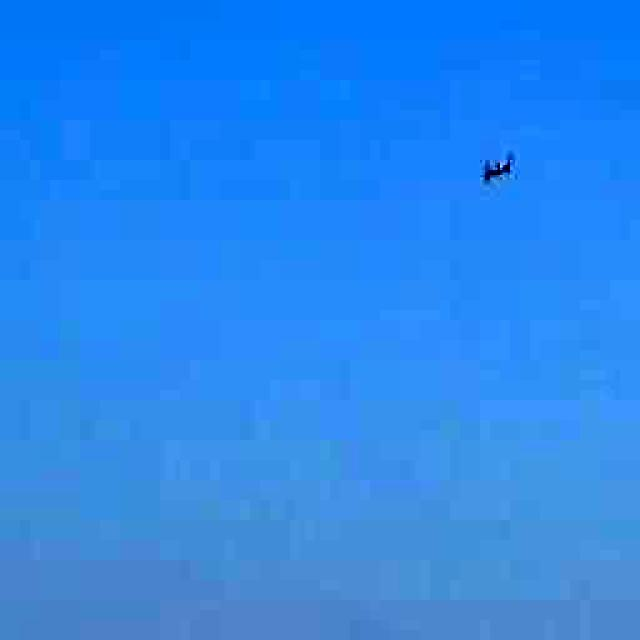bird: (458, 140, 532, 208)
